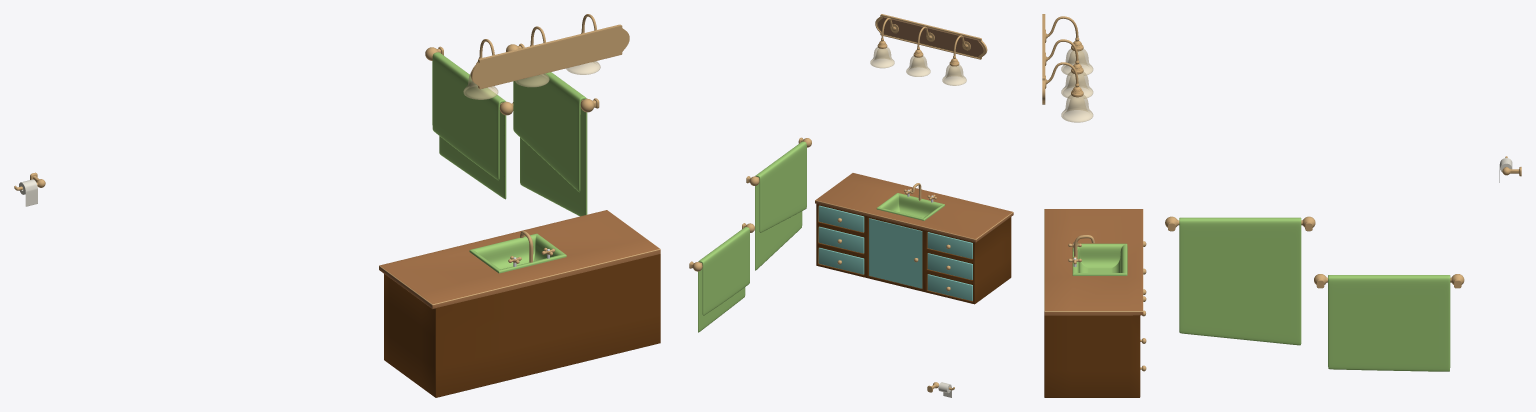
Rendered from Main Bathroom.fbx.
3 renders of one model, left to right at view 1: azimuth 30°, elevation 25°; view 2: azimuth 150°, elevation 25°; view 3: azimuth 270°, elevation 25°, orthographic. The views are drawn at different scales.
Parts seen in each view (by area): view 1: Bathroom_Counter.001, Bathroom_Towel1, Bathroom_Towel2, Bathroom_LightBacking; view 2: Bathroom_Counter.001, Bathroom_Towel1, Bathroom_LightBacking, Bathroom_Towel2; view 3: Bathroom_Counter.001, Bathroom_Towel1, Bathroom_Towel2, Bathroom_LightBacking.
Boxes of the visible parts, x1,y1,x2,y2 form: Bathroom_Counter.001: [379, 210, 660, 397]; Bathroom_Towel1: [506, 43, 599, 216]; Bathroom_Towel2: [425, 46, 513, 199]; Bathroom_LightBacking: [463, 14, 629, 99]; Bathroom_Counter.001: [815, 173, 1013, 304]; Bathroom_Towel1: [746, 137, 811, 270]; Bathroom_LightBacking: [870, 14, 987, 85]; Bathroom_Towel2: [689, 223, 754, 332]; Bathroom_Counter.001: [1044, 209, 1146, 397]; Bathroom_Towel1: [1165, 216, 1315, 345]; Bathroom_Towel2: [1314, 274, 1464, 371]; Bathroom_LightBacking: [1042, 14, 1093, 122].
Bounding box in the file's own units: 356 × 284 × 400.
